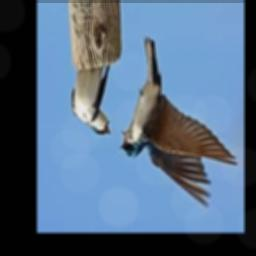Swallow: (119, 35, 237, 207), (70, 64, 109, 136)
